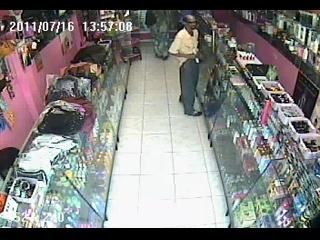Normal: (168, 15, 203, 117)
